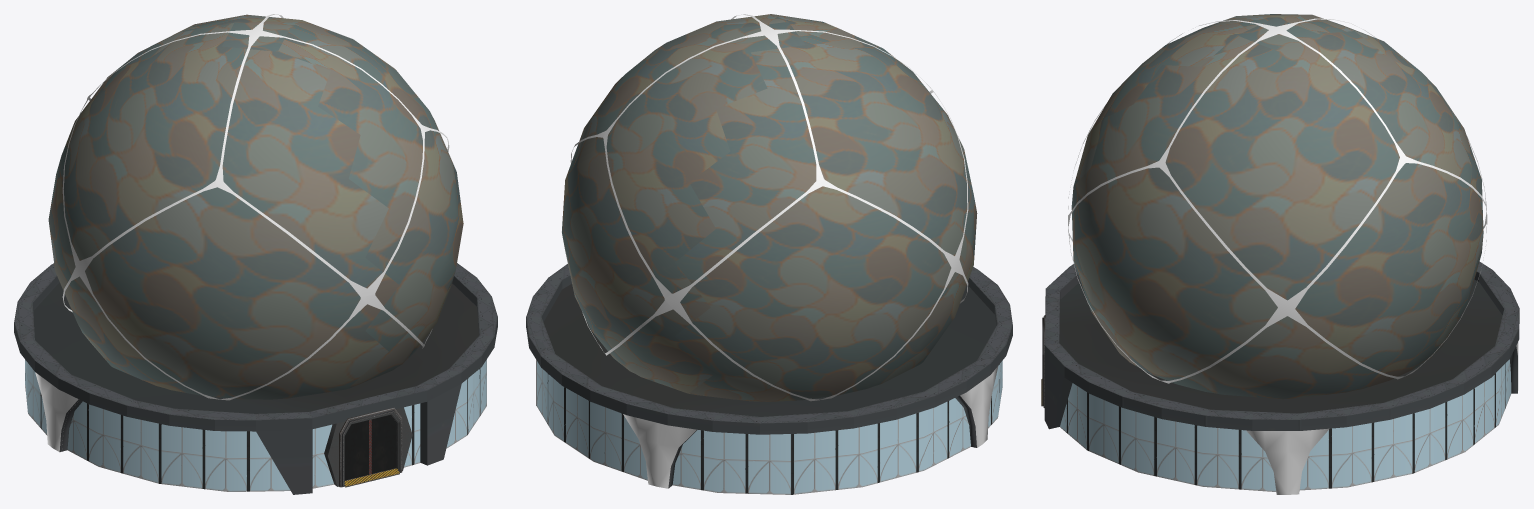
Rendered from Dome LOD.fbx.
3 views of the same model, side by side, from view 1: azimuth 30°, elevation 25°; view 2: azimuth 150°, elevation 25°; view 3: azimuth 270°, elevation 25° (orthographic).
Parts seen in each view (by area): view 1: LOD01, LOD02; view 2: LOD01, LOD02; view 3: LOD02, LOD01.
Part boxes in pixels (x1,y1,x2,y2): LOD01: [14, 14, 497, 494]; LOD02: [17, 14, 494, 492]; LOD01: [526, 15, 1012, 494]; LOD02: [526, 14, 1008, 480]; LOD02: [1041, 17, 1519, 491]; LOD01: [1041, 14, 1519, 494].
Bounding box in the file's own units: 24.01 × 20.52 × 23.72.
2 materials, 2 textured.
